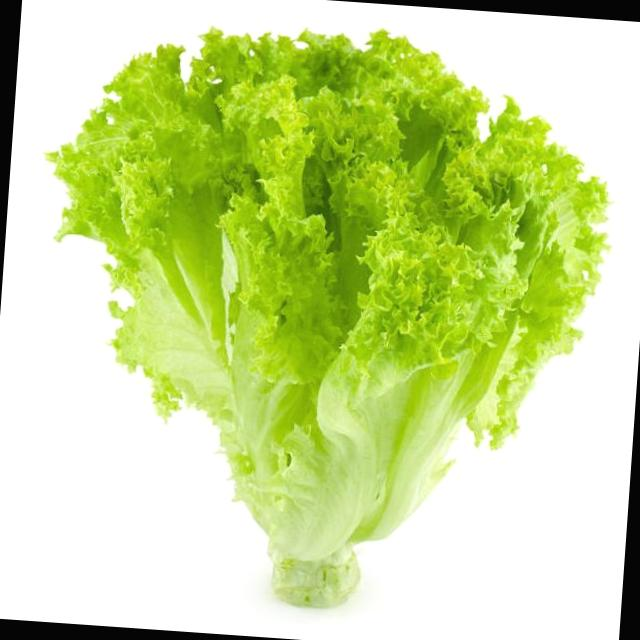Lettuce-Ready-to-Harvest: (51, 32, 607, 606)
